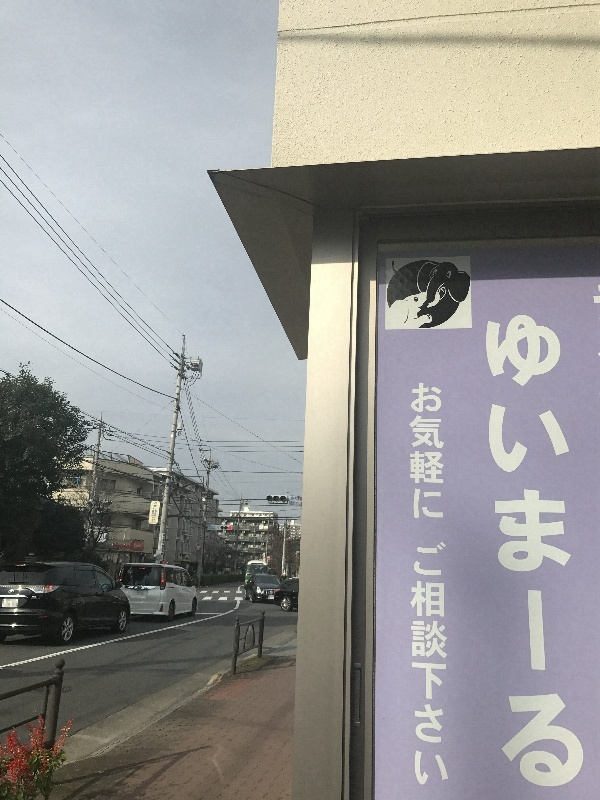text: (497, 310, 512, 797), (513, 310, 528, 797), (529, 310, 544, 797), (545, 310, 560, 797), (561, 310, 576, 797), (484, 310, 496, 797), (577, 310, 587, 797), (417, 536, 432, 797), (433, 536, 448, 797), (433, 378, 449, 528), (417, 378, 432, 528), (409, 536, 416, 797), (410, 378, 416, 528), (449, 536, 451, 797), (162, 545, 176, 556), (113, 542, 128, 551), (163, 534, 176, 540), (162, 541, 176, 546), (283, 555, 288, 569), (291, 496, 304, 501), (154, 501, 160, 511), (291, 501, 304, 505), (152, 512, 160, 517), (155, 510, 160, 518), (163, 539, 176, 542), (152, 510, 160, 513), (129, 542, 131, 551)
